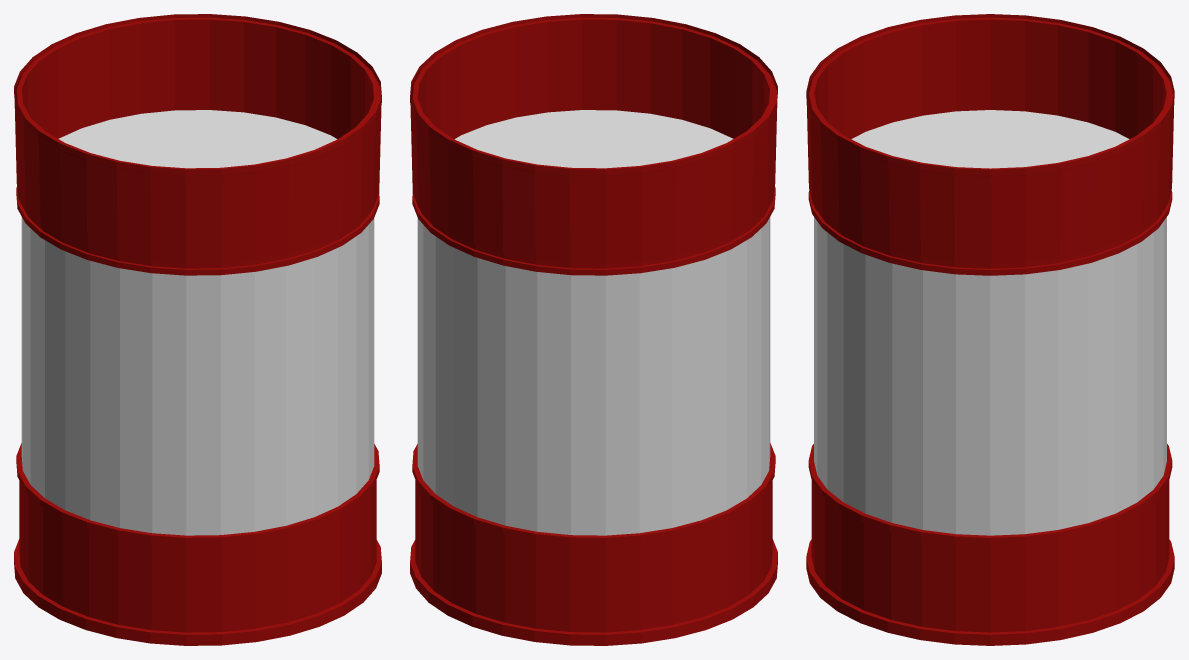
File: barel.fbx
The picture shows the model from 3 angles, left to right: view 1: azimuth 30°, elevation 25°; view 2: azimuth 150°, elevation 25°; view 3: azimuth 270°, elevation 25°; orthographic projection.
Parts seen in each view (by area): view 1: Cylinder.006; view 2: Cylinder.006; view 3: Cylinder.006.
Boxes of the visible parts, x1,y1,x2,y2 form: Cylinder.006: (14, 14, 381, 645); Cylinder.006: (410, 14, 777, 645); Cylinder.006: (806, 14, 1174, 645).
Size of the model in its own units: 1.45 by 2.07 by 1.45.
